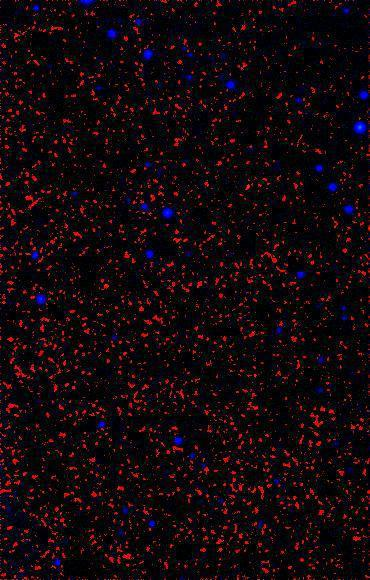star: (348, 112, 370, 142)
